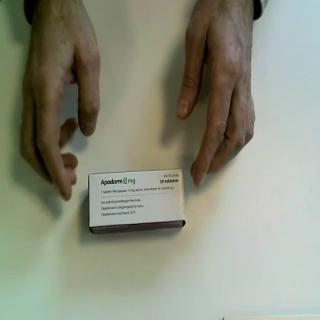apodonorm5mg: (88, 167, 188, 236)
